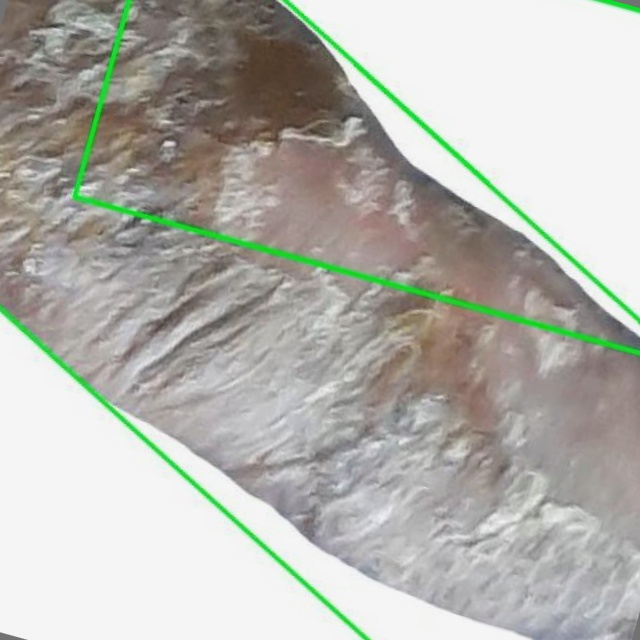Eczema: (0, 0, 639, 639), (73, 0, 639, 351)
